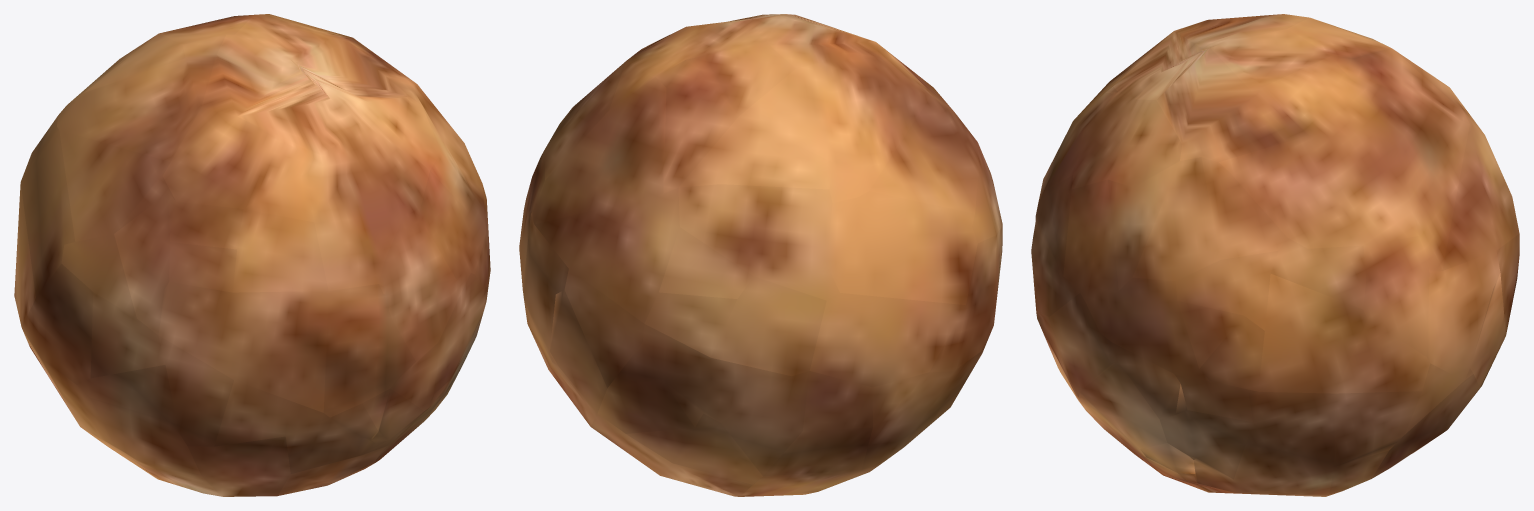
Rendered from planet_4-far.glb.
The picture shows the model from 3 angles, left to right: view 1: azimuth 30°, elevation 25°; view 2: azimuth 150°, elevation 25°; view 3: azimuth 270°, elevation 25°; orthographic projection.
Visible parts, largest first — view 1: Mesh_0.001; view 2: Mesh_0.001; view 3: Mesh_0.001.
Boxes of the visible parts, x1,y1,x2,y2 form: Mesh_0.001: (14,14,490,496); Mesh_0.001: (519,14,1002,496); Mesh_0.001: (1031,14,1519,496).
Size of the model in its own units: 1.89 by 1.9 by 1.89.
1 material, 1 textured.
